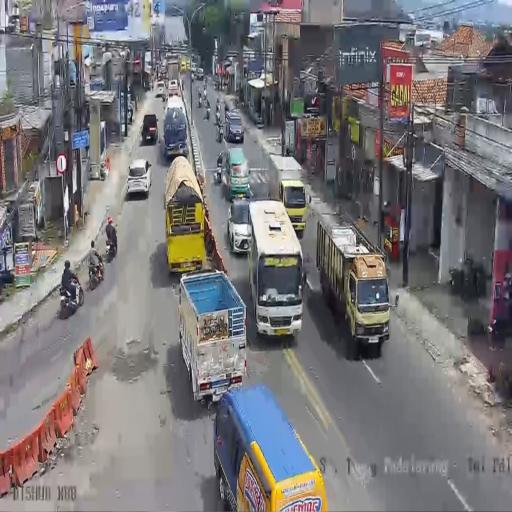car: (223, 146, 250, 200), (228, 198, 252, 254), (126, 158, 152, 199), (224, 107, 244, 143), (164, 94, 185, 126), (140, 112, 159, 144), (167, 78, 179, 96), (155, 81, 165, 97), (180, 57, 187, 72), (196, 67, 204, 80), (191, 63, 197, 77)
motorcycle: (60, 274, 84, 317), (88, 255, 105, 291), (104, 235, 117, 262), (215, 118, 224, 142), (204, 102, 210, 119), (214, 78, 220, 90), (203, 75, 207, 91), (198, 93, 202, 108)
truck: (216, 384, 328, 509), (177, 268, 247, 404), (164, 154, 207, 276), (266, 153, 307, 232)
